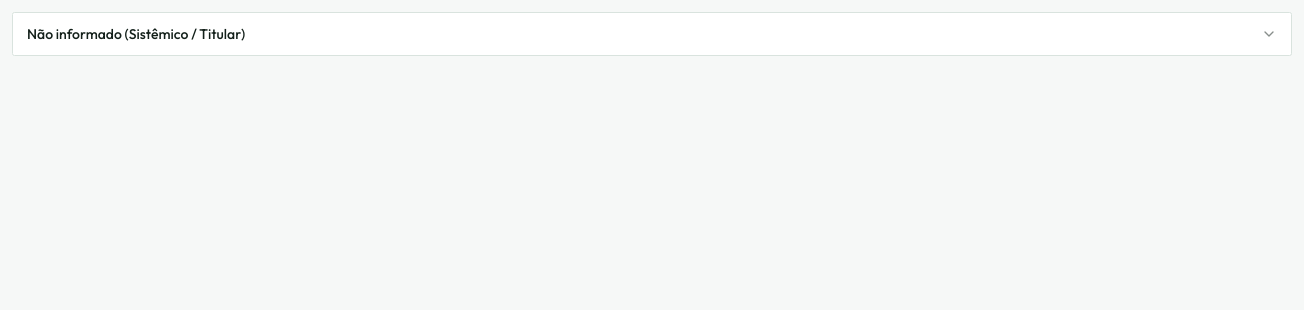
PessoaSelect › mostra catálogo da Unidade correta quando clicado
Click the button with test id "pessoa-select-trigger".
click(136, 34)  # box [12, 12, 1292, 56]
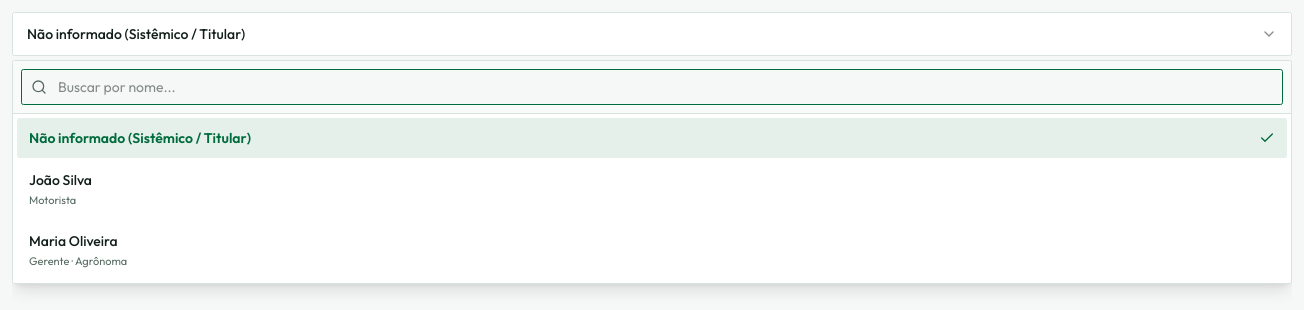
Expected: the text "João Silva" is shown, [29, 170, 92, 190]
Expected: the text "Motorista" is shown, [29, 193, 76, 207]
Expected: the text "Maria Oliveira" is shown, [29, 230, 127, 250]
